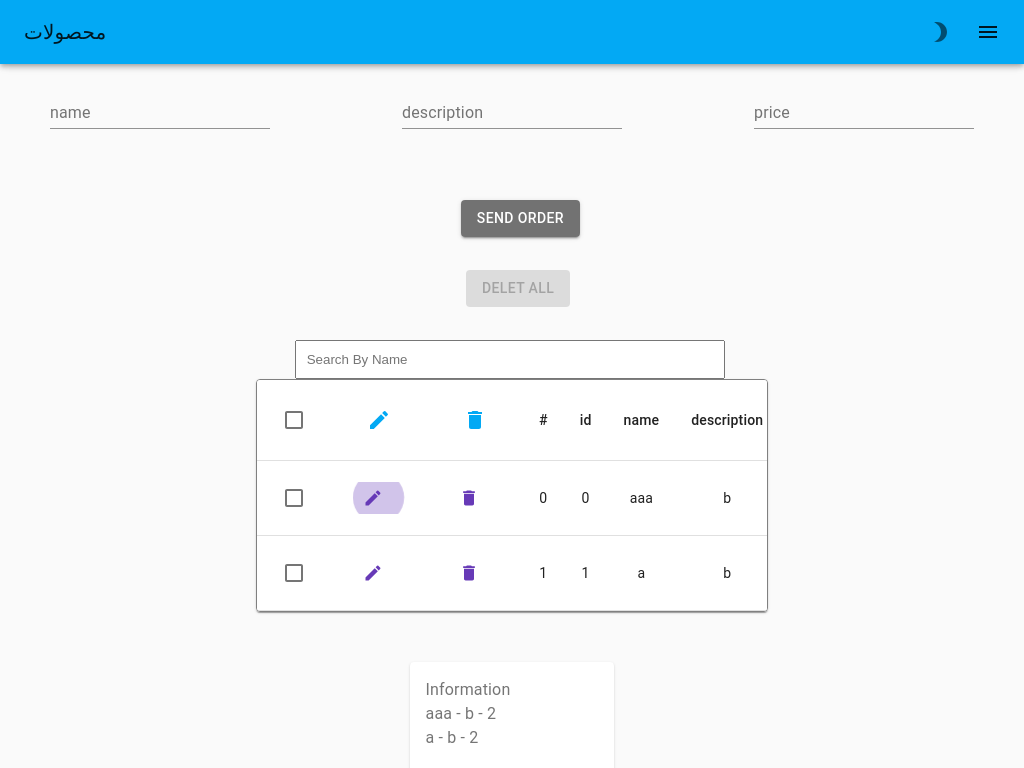
Scenario: renders the home ViewProduct › deletRow
What coordinates should you click on to do the following:
click the 2nd button with test id "1"
I would click on:
 (475, 573)
Its box is [443,557,507,589].
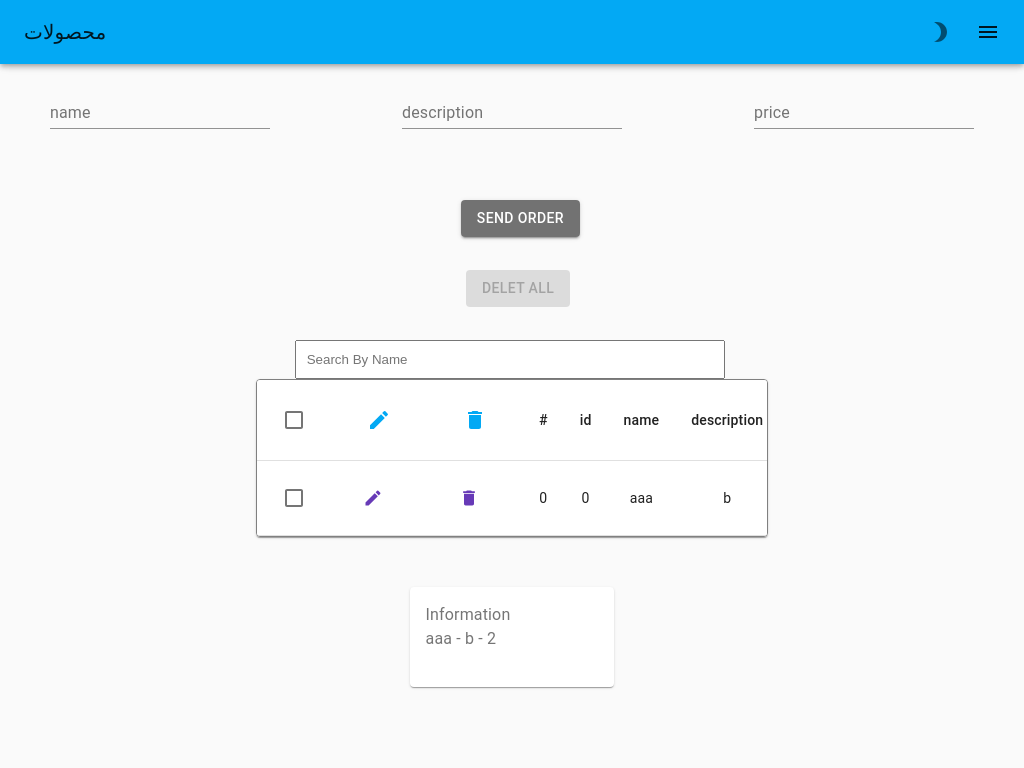
Result: the number of rows is 2 at [257,380,768,460]; [257,460,768,535]
